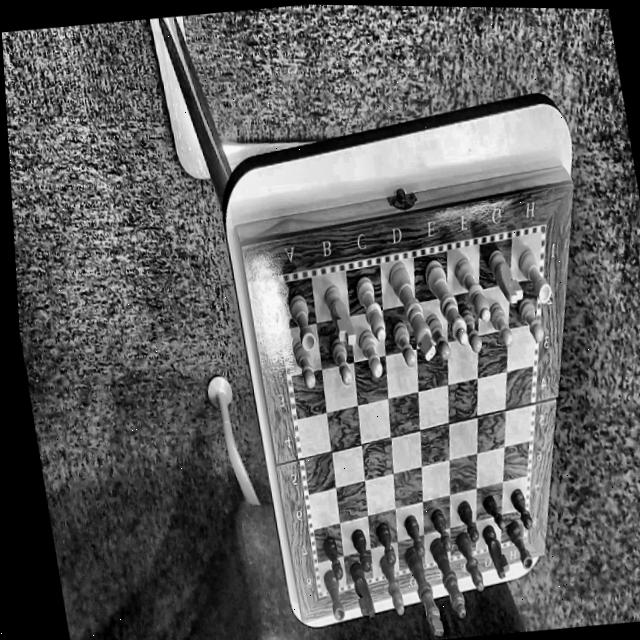chessboard: (278, 234, 541, 590)
